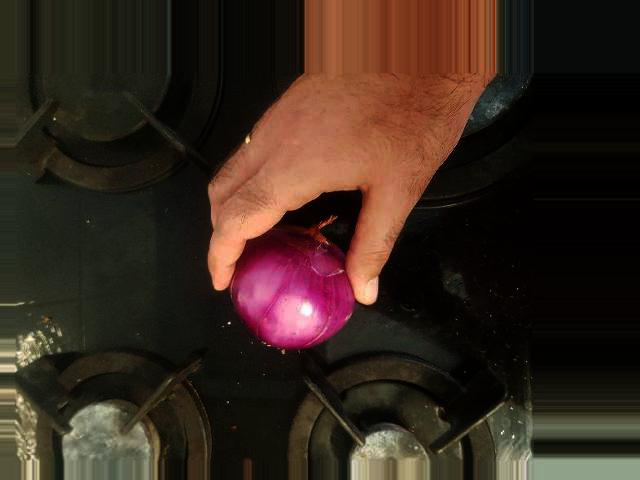onion: (125, 288, 242, 413)
